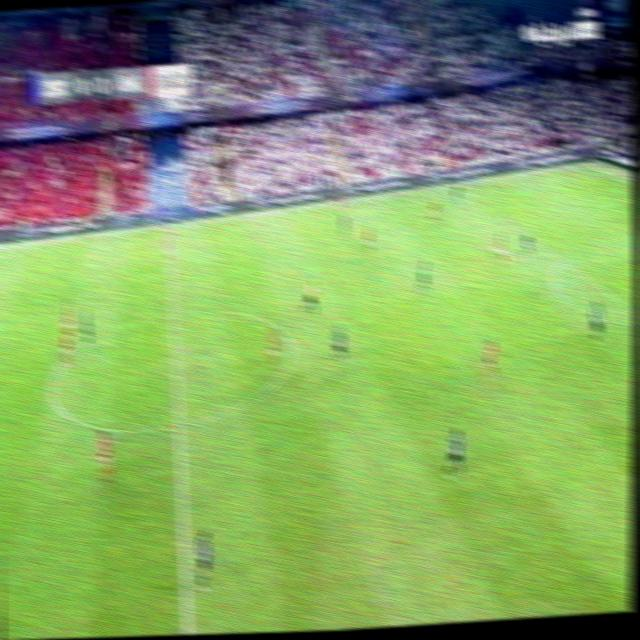bigarea_top_inner: (499, 210, 515, 224)
corner: (579, 159, 597, 171)
halfcircle_bottom: (164, 411, 190, 438)
halfcircle_top: (159, 301, 186, 327)
midline_top_intersection: (160, 219, 180, 235)
top_arc_area_intersection: (556, 251, 572, 267)
